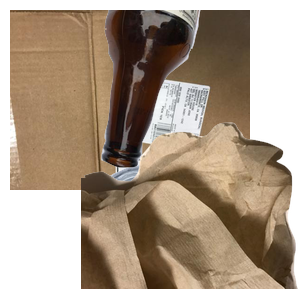cardboard: (10, 10, 250, 190)
glass: (99, 10, 300, 170)
plastic: (86, 163, 282, 300)
trash: (81, 120, 300, 300)
